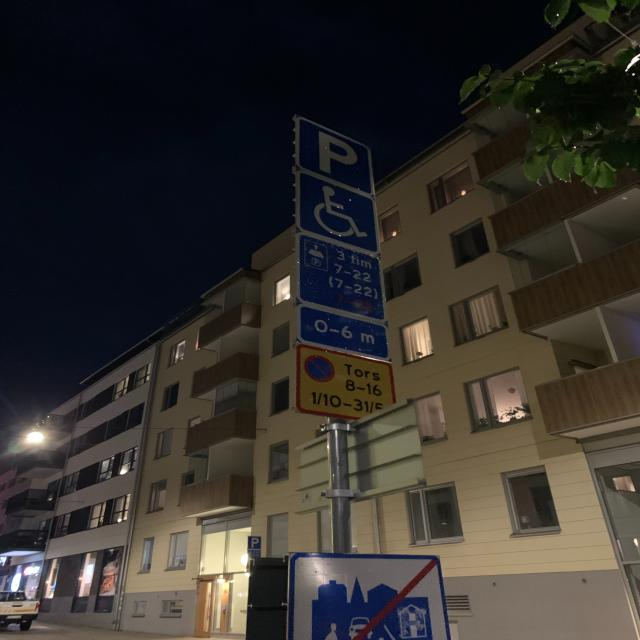psign: (294, 116, 376, 194)
